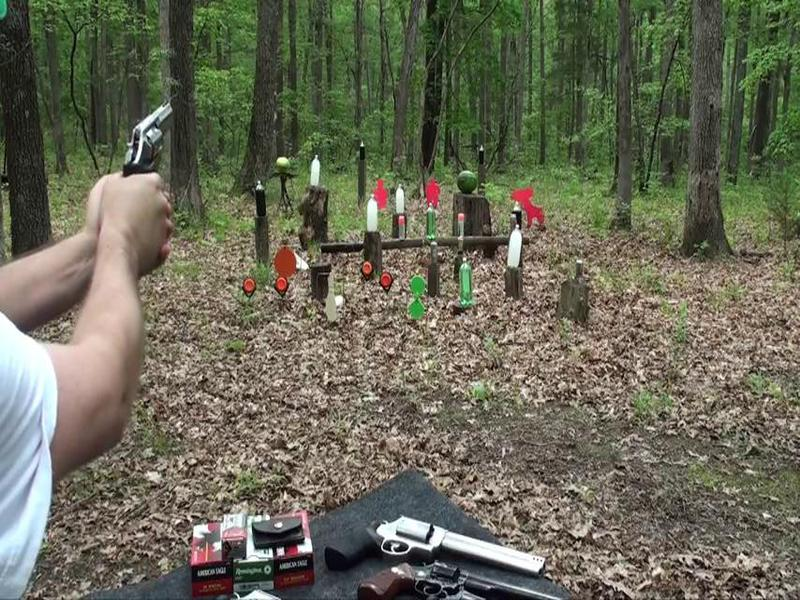Revolver: (116, 94, 185, 191)
